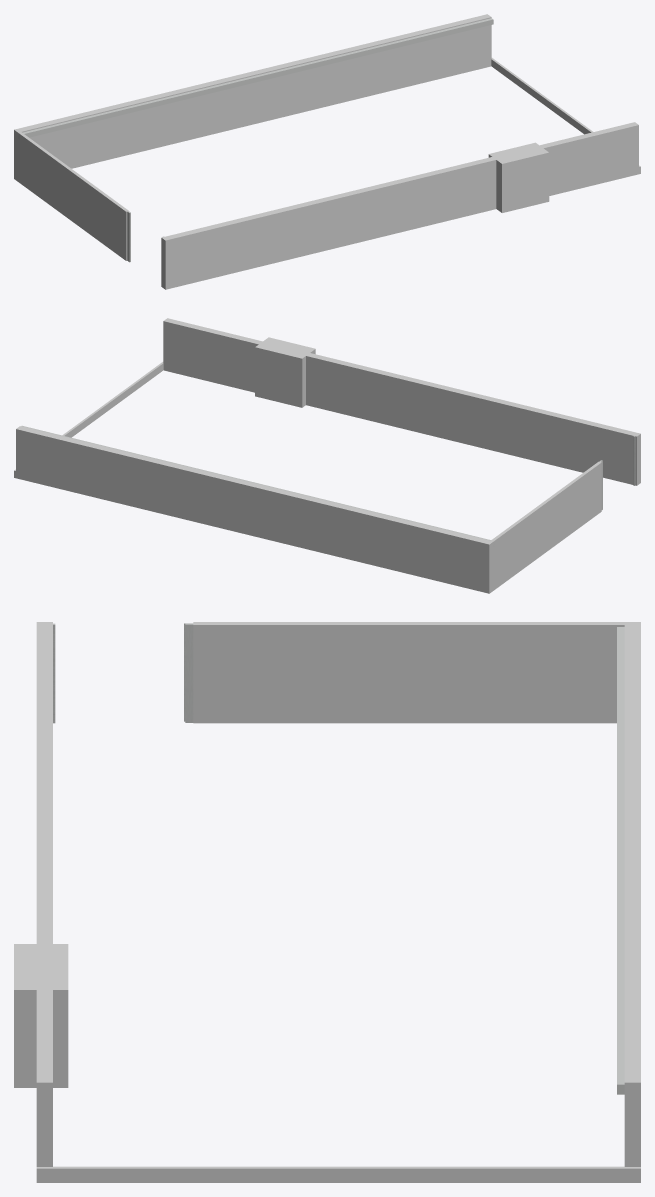
The model's file is Lab_Mesh_B.dae.
3 views of the same model, one above another, from view 1: azimuth 30°, elevation 25°; view 2: azimuth 150°, elevation 25°; view 3: azimuth 270°, elevation 25° (orthographic). The views are drawn at different scales.
Visible parts, largest first — view 1: Lab_Mesh_B; view 2: Lab_Mesh_B; view 3: Lab_Mesh_B.
Part boxes in pixels (x1,y1,x2,y2): Lab_Mesh_B: (14, 14, 640, 289); Lab_Mesh_B: (14, 318, 640, 593); Lab_Mesh_B: (14, 622, 640, 1182).
Size of the model in its own units: 10.1 by 5.78 by 1.
Materials: 2 (1 with a texture image).
